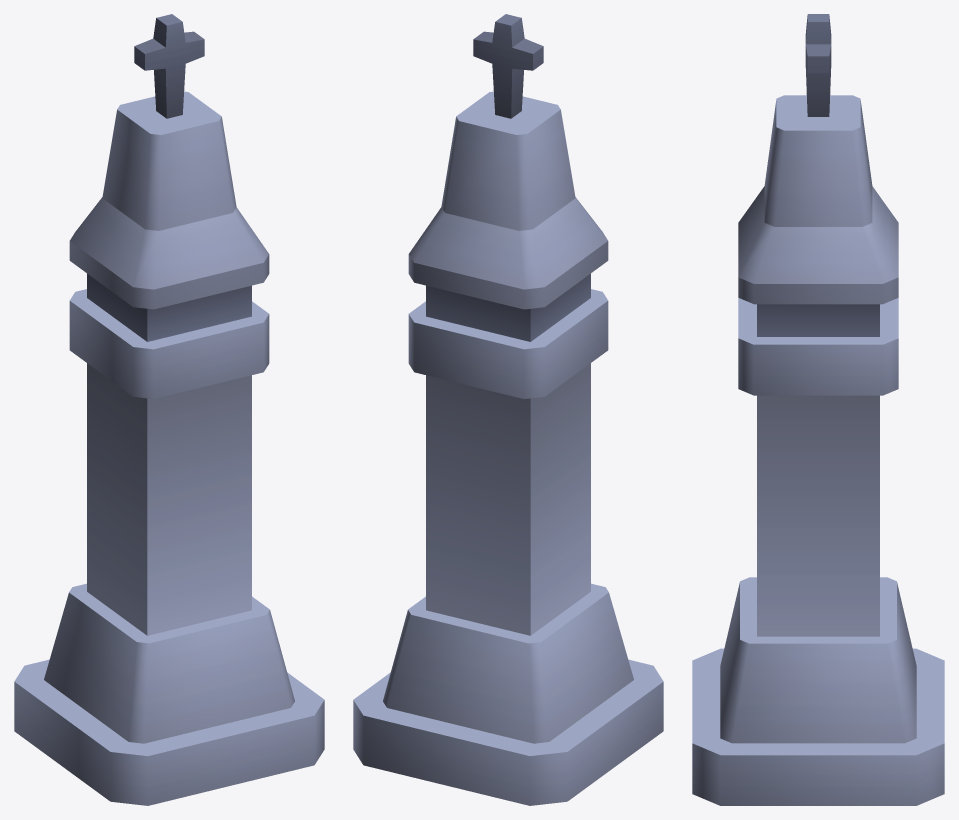
Rendered from cross-column.glb.
3 views of the same model, side by side, from view 1: azimuth 30°, elevation 25°; view 2: azimuth 150°, elevation 25°; view 3: azimuth 270°, elevation 25° (orthographic).
Visible parts, largest first — view 1: cross-column; view 2: cross-column; view 3: cross-column.
Part boxes in pixels (<box>): cross-column: <box>14,14,324,805</box>; cross-column: <box>353,14,663,805</box>; cross-column: <box>692,14,944,805</box>.
Bounding box in the file's own units: 0.45 × 1.45 × 0.45.
Materials: 1 (1 with a texture image).
